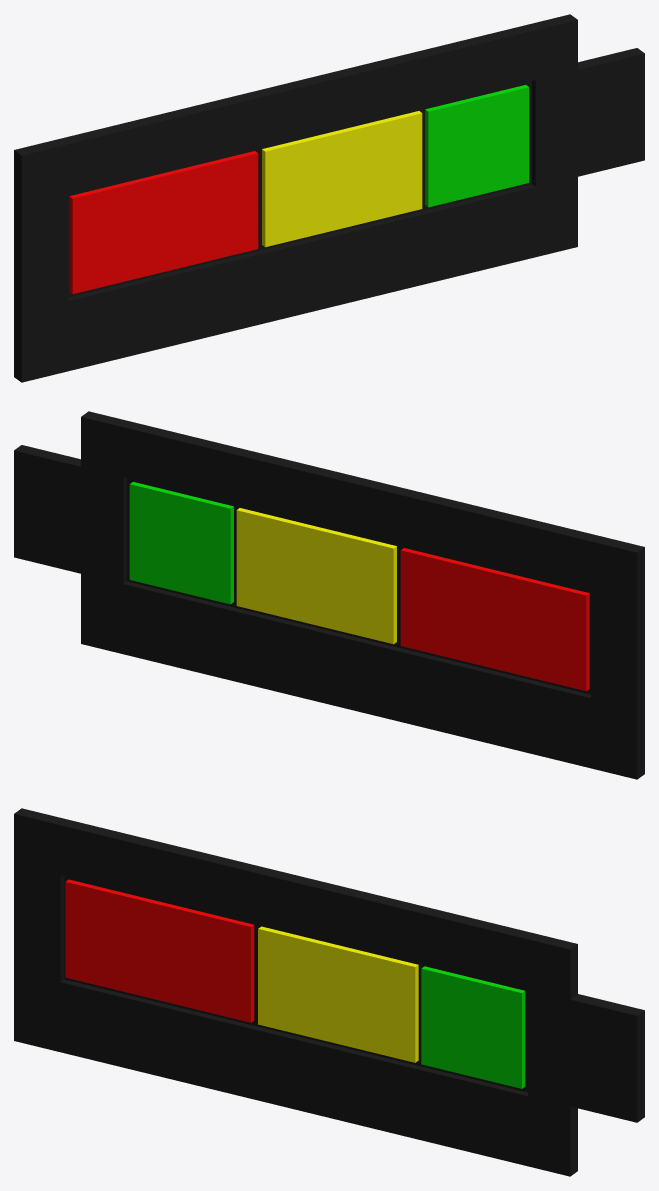
File: battery.fbx
3 views of the same model, one above another, from view 1: azimuth 30°, elevation 25°; view 2: azimuth 150°, elevation 25°; view 3: azimuth 330°, elevation 25° (orthographic).
Parts seen in each view (by area): view 1: Cube_001; view 2: Cube_001; view 3: Cube_001.
Part boxes in pixels (x1,y1,x2,y2): Cube_001: (14, 14, 644, 382); Cube_001: (14, 411, 644, 779); Cube_001: (14, 808, 644, 1176).
Size of the model in its own units: 39.6 by 13.78 by 0.8477.
